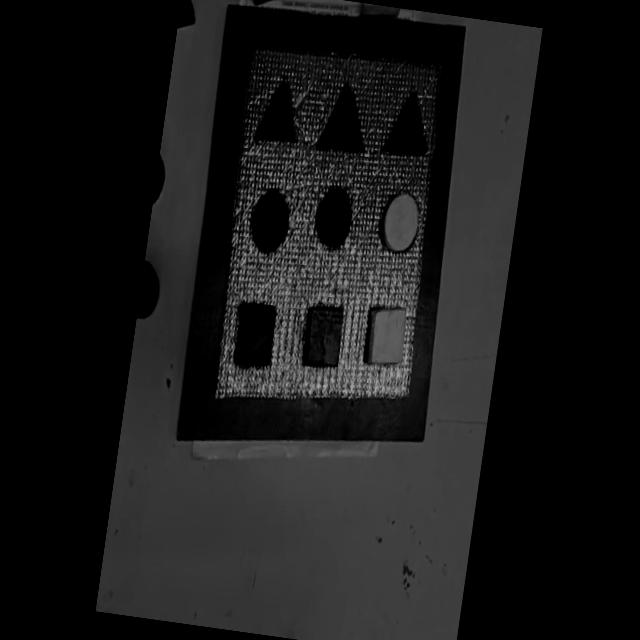bcircle: (152, 156, 167, 208)
bcube: (232, 299, 280, 370)
btriangle: (177, 0, 200, 32)
mtcircle: (244, 186, 294, 259), (376, 188, 424, 260), (309, 186, 356, 254)
mttriangle: (316, 80, 374, 160), (252, 74, 306, 150), (382, 88, 436, 162)
rcircle: (136, 260, 164, 324)
rcube: (299, 303, 346, 372)
wb: (205, 37, 458, 426)
ycube: (365, 302, 411, 370)
